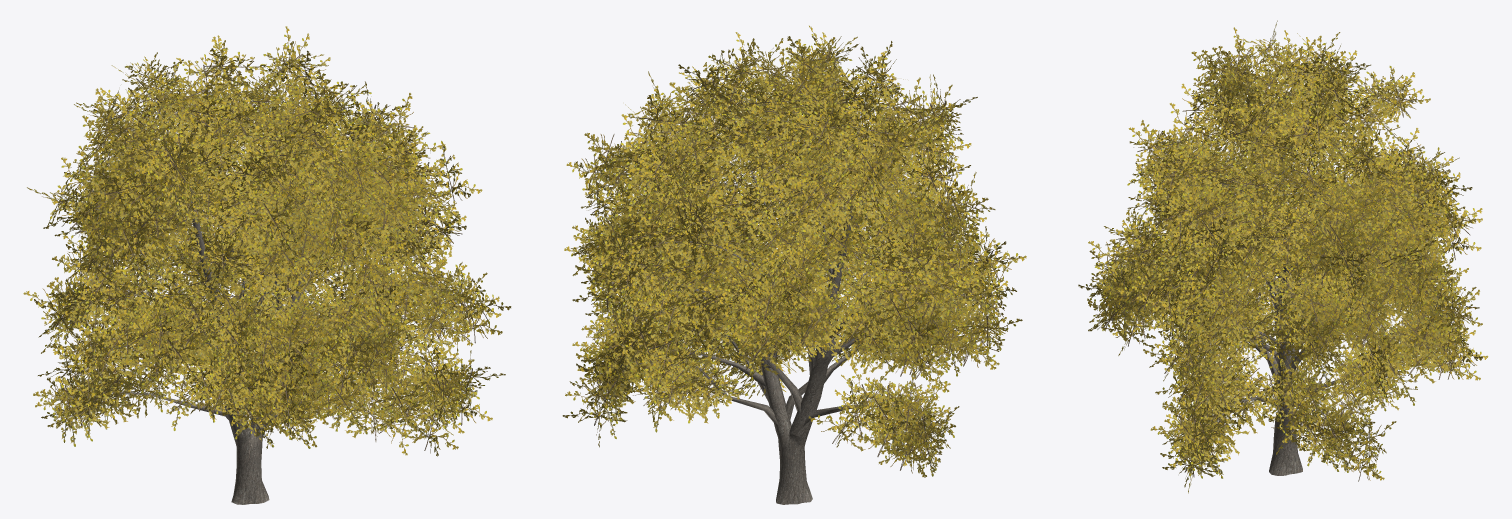
The model's file is Carpinus_Betulus_Autumn_Adult.glb.
3 renders of one model, left to right at view 1: azimuth 30°, elevation 25°; view 2: azimuth 150°, elevation 25°; view 3: azimuth 270°, elevation 25°, orthographic. The views are drawn at different scales.
Parts seen in each view (by area): view 1: Carpinus_Betulus_Autumn_Adult__LOD3; view 2: Carpinus_Betulus_Autumn_Adult__LOD3; view 3: Carpinus_Betulus_Autumn_Adult__LOD3.
Boxes of the visible parts, x1=… form: Carpinus_Betulus_Autumn_Adult__LOD3: x1=23, y1=26, x2=511, y2=504; Carpinus_Betulus_Autumn_Adult__LOD3: x1=562, y1=25, x2=1026, y2=504; Carpinus_Betulus_Autumn_Adult__LOD3: x1=1078, y1=20, x2=1488, y2=493.
Size of the model in its own units: 20.17 by 20.63 by 18.75.
2 materials, 2 textured.
